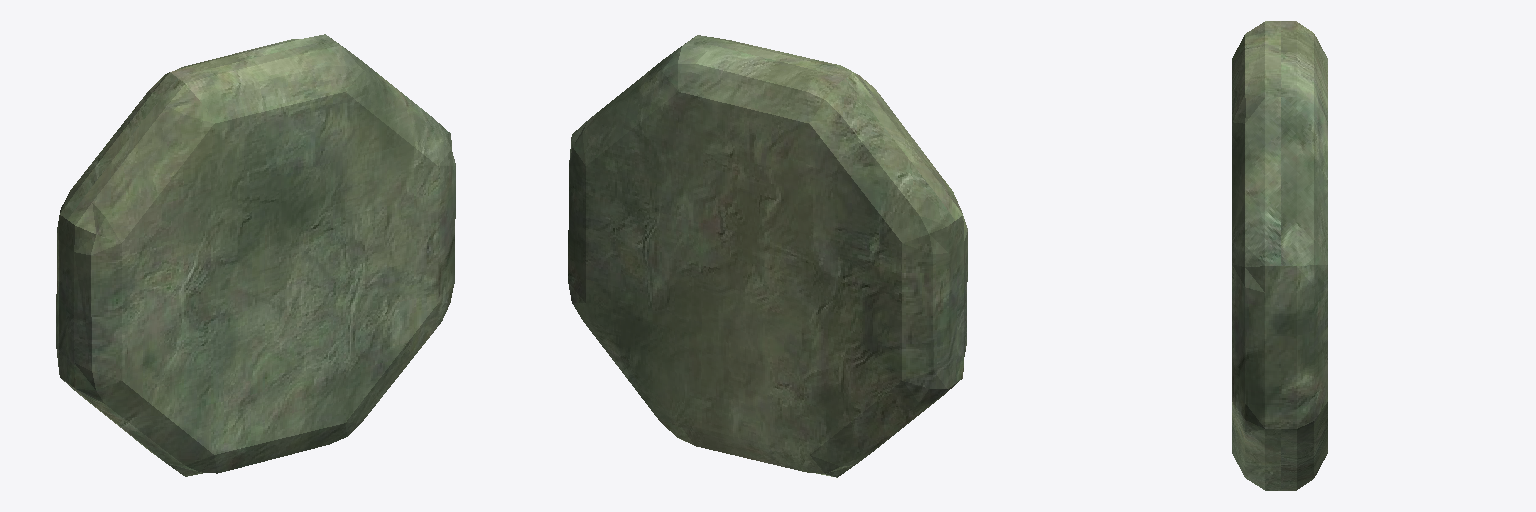
The picture shows the model from 3 angles: view 1: azimuth 30°, elevation 25°; view 2: azimuth 150°, elevation 25°; view 3: azimuth 270°, elevation 25°; orthographic projection.
Visible parts, largest first — view 1: Cube; view 2: Cube; view 3: Cube.
Boxes of the visible parts, box(x1,y1,x2,y2) form: Cube: box(56, 34, 455, 476); Cube: box(568, 35, 967, 477); Cube: box(1232, 21, 1327, 490).
Size of the model in its own units: 0.9988 by 0.9988 by 0.2182.
Materials: 1 (1 with a texture image).